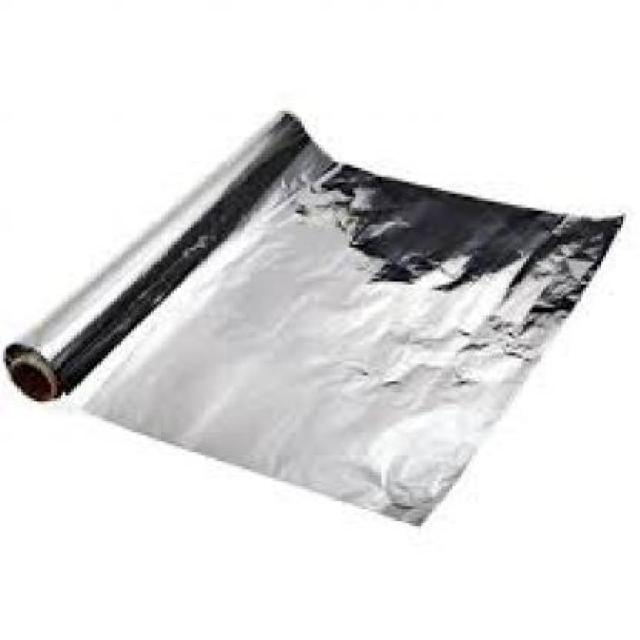METAL: (0, 105, 626, 526)
